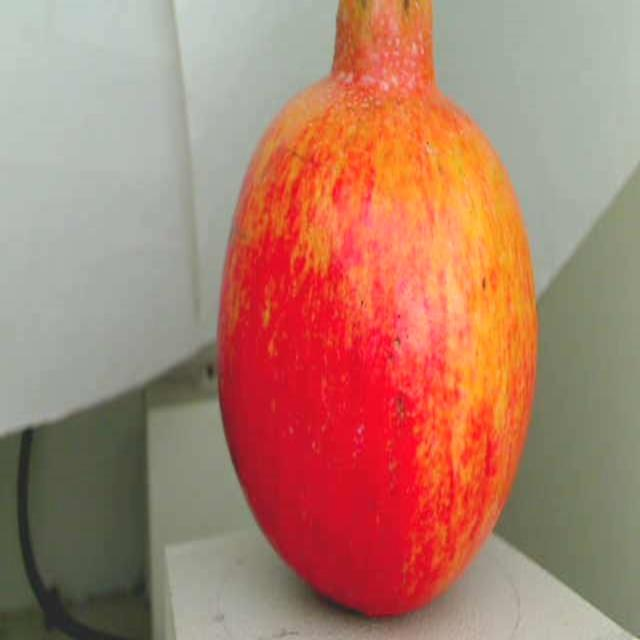pomegranate: (201, 0, 552, 627)
